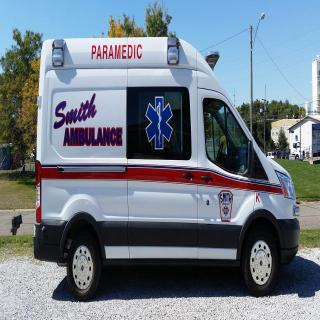Ambulance: (24, 27, 303, 301)
